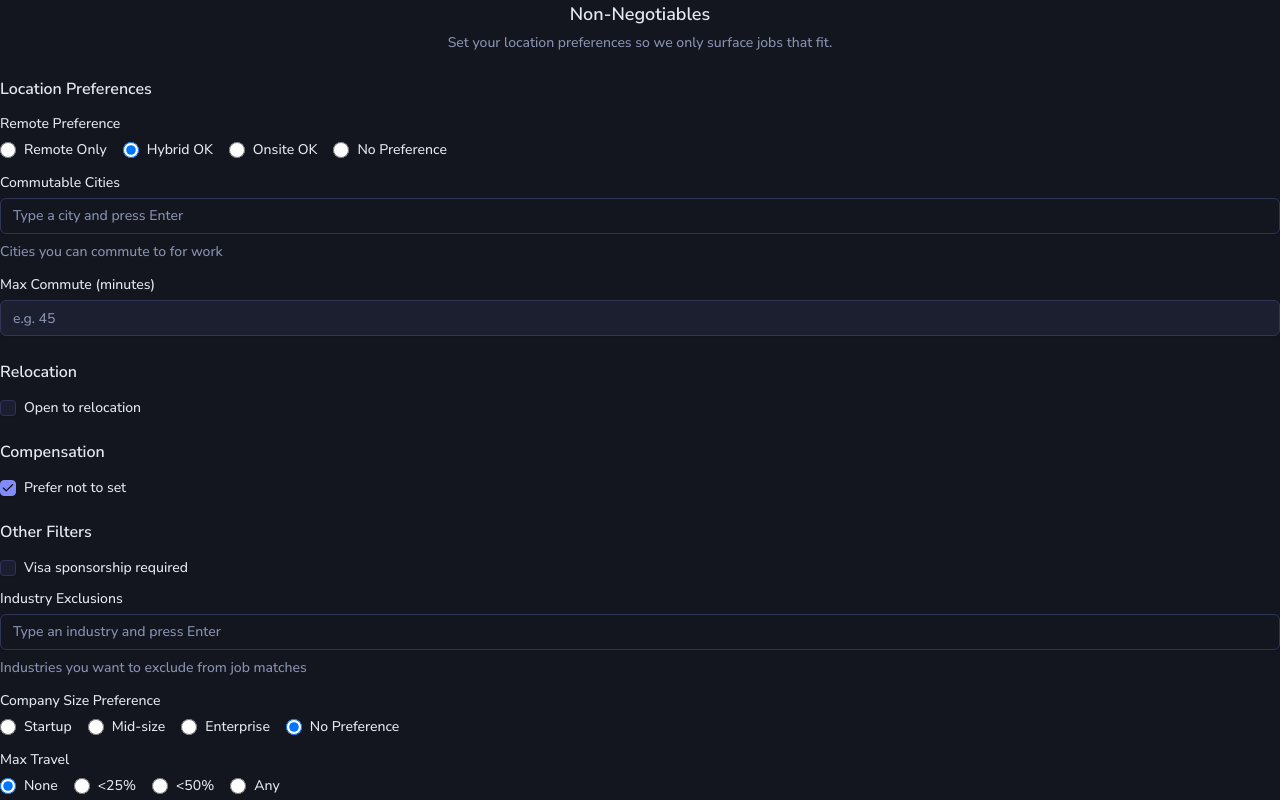
Test: NonNegotiablesStep › validation › rejects negative max commute value on submit
Type "-10" into the number field labelled "Max Commute (minutes)" at [640, 318], box [0, 300, 1279, 336]
(page scrolled)
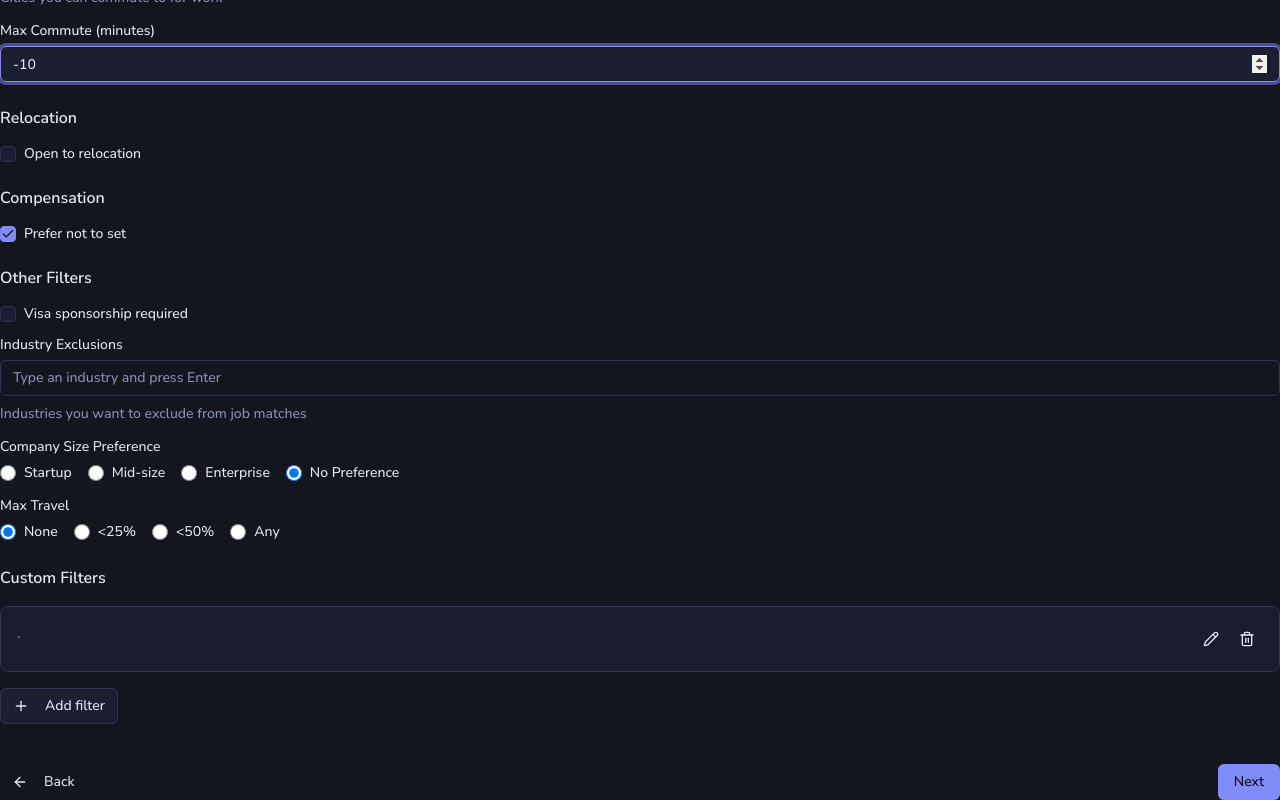
Click the button with test id "submit-button" at [1249, 782], box [1218, 764, 1279, 799]
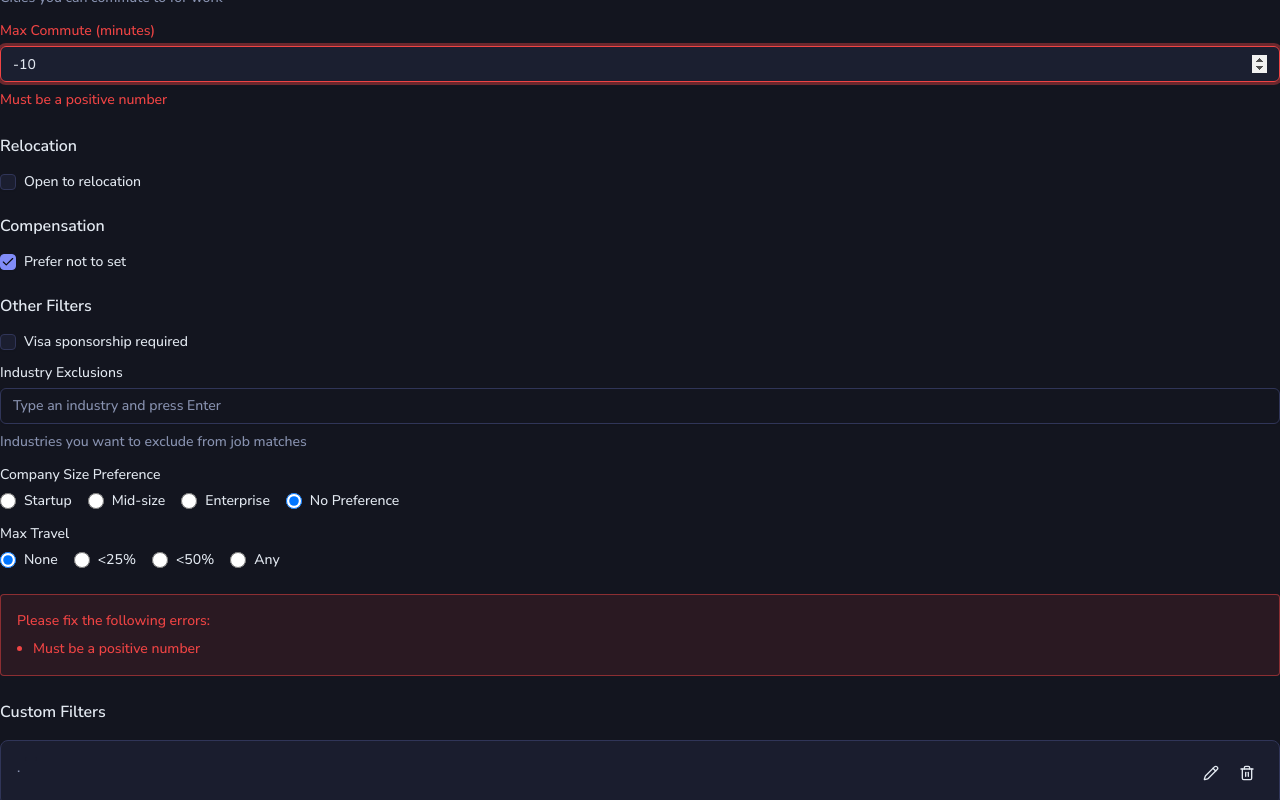
Check: the text "Must be a positive number" is shown, box [0, 90, 167, 109]
